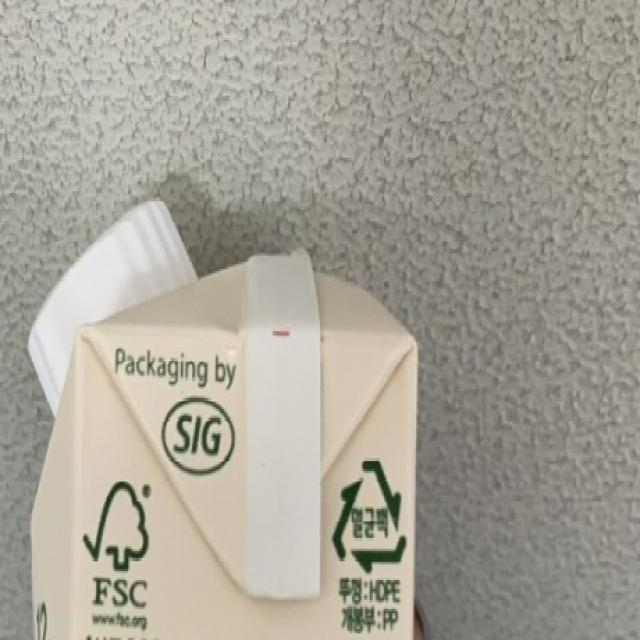SterilizedPack: (327, 453, 412, 578)
